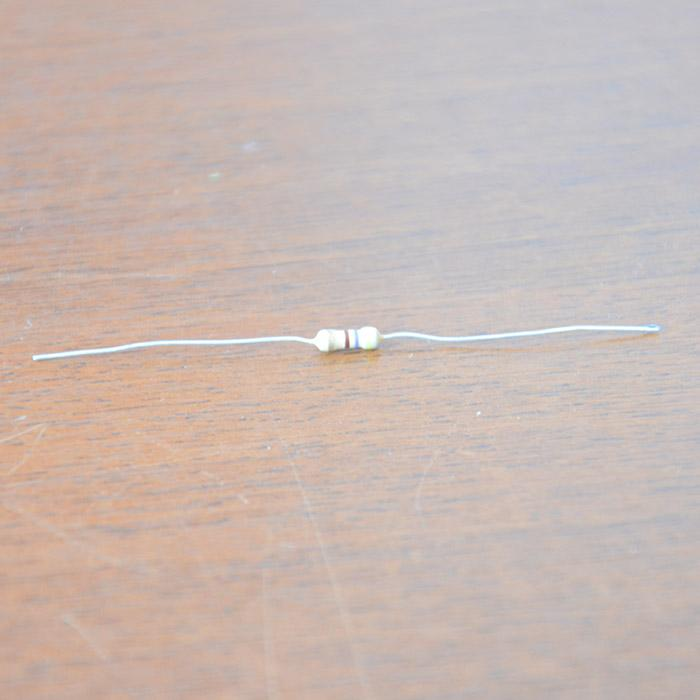resistor: (346, 312, 373, 380)
